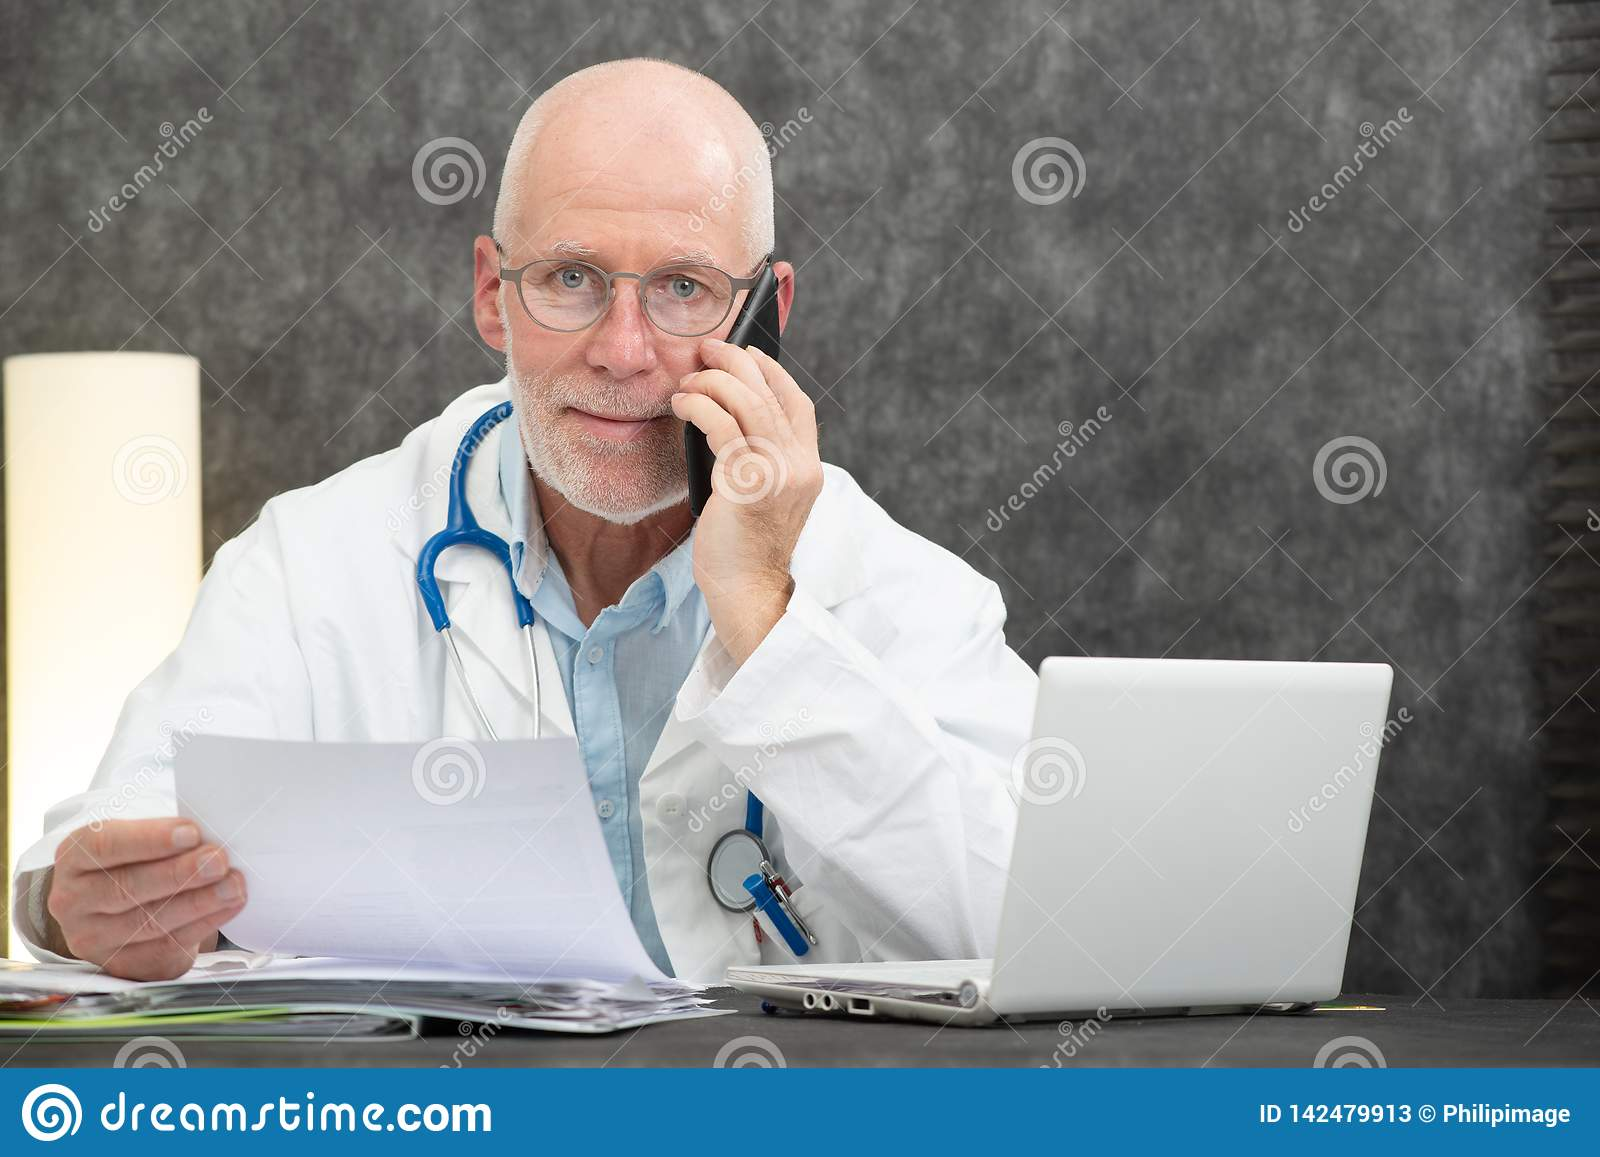phone: (680, 267, 780, 529)
talk: (519, 220, 824, 628)
